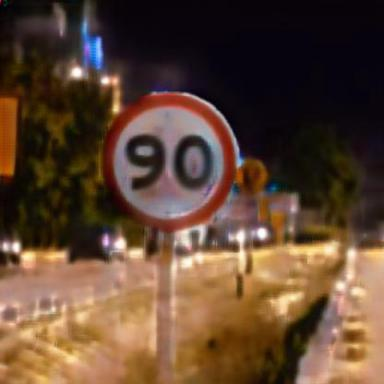Speed_limit_90: (103, 94, 236, 233)
